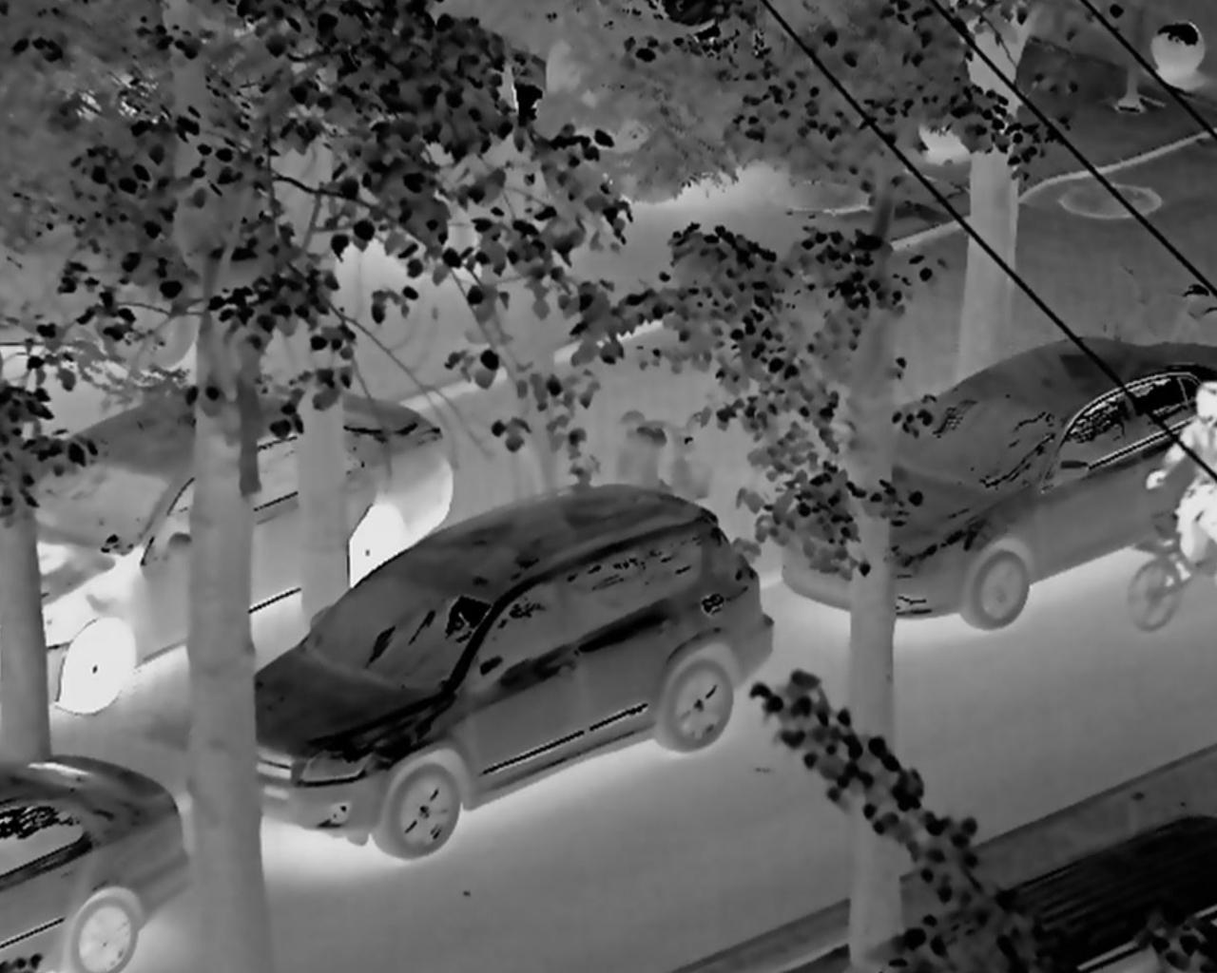person: (1140, 382, 1217, 615)
